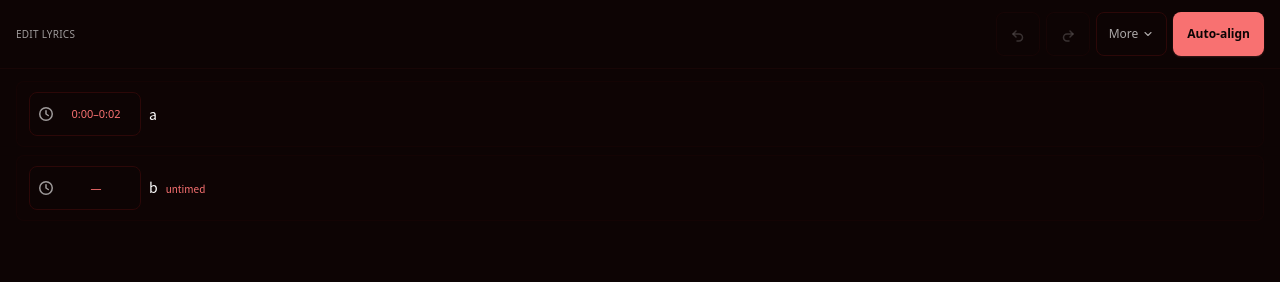
Test case: EditMode › requires a fresh tap to re-arm delete after switching to a different row
The image size is (1280, 282).
# Arm delete on line 2 ("b").
Click the button "b": [186, 188] box [149, 177, 1243, 199]
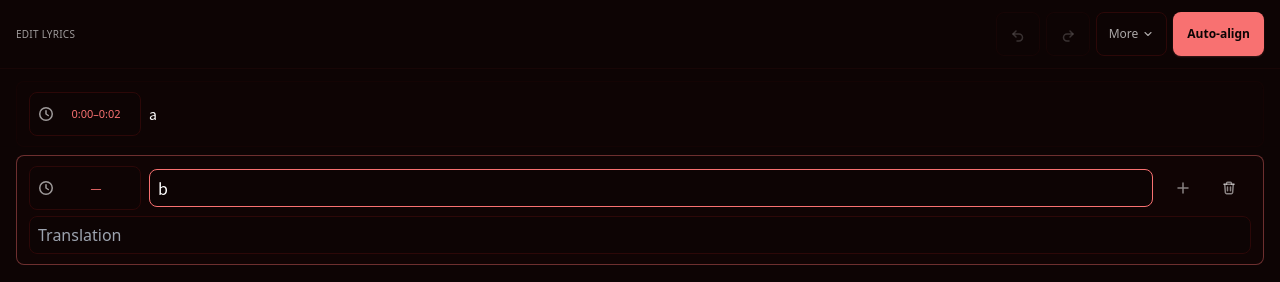
Click the button named "Delete line 2": [1229, 188] box [1207, 166, 1251, 210]
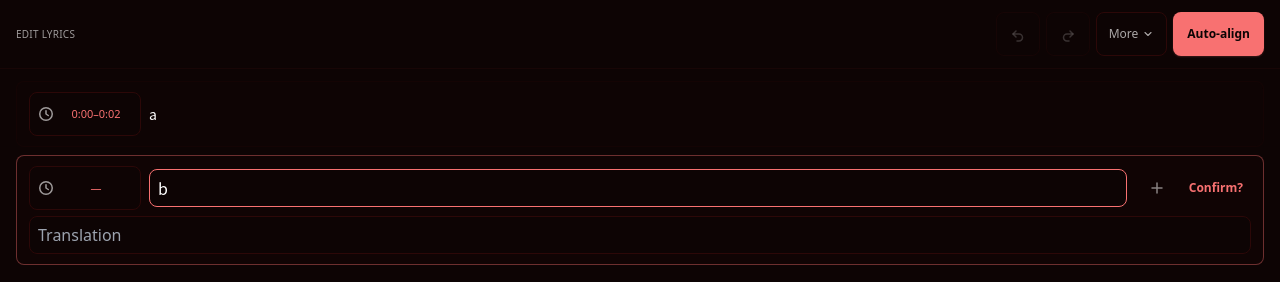
Expected: the button with aria-label "Confirm delete line 2" is shown, [1181, 166, 1251, 210]
# Switch to editing line 1 ("a") instead, within the confirm window.
Click the button "a": [153, 114] box [149, 104, 1243, 124]
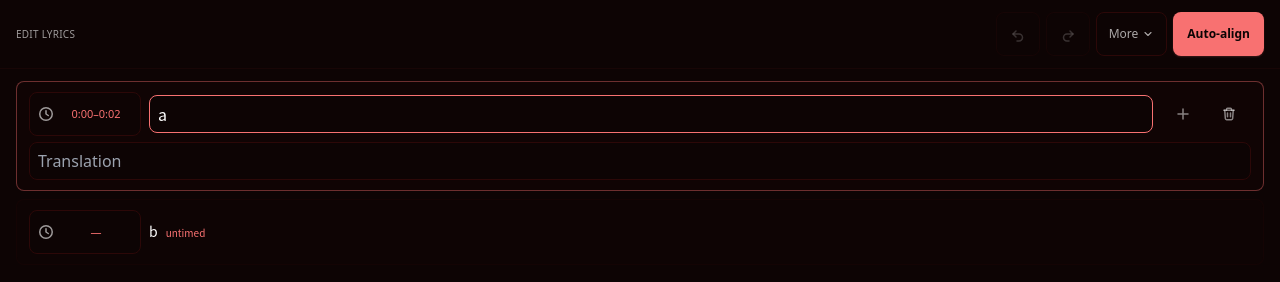
# Switch back to line 2 — it should require a fresh tap, not show Confirm? immediately.
Click the button with aria-label "Edit line 2": [186, 232] box [149, 221, 1243, 243]
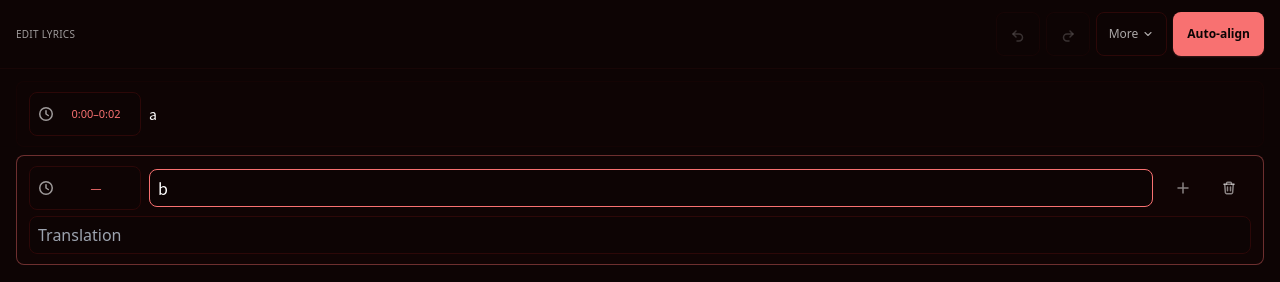
Expected: the button named "Delete line 2" is shown, [1207, 166, 1251, 210]
